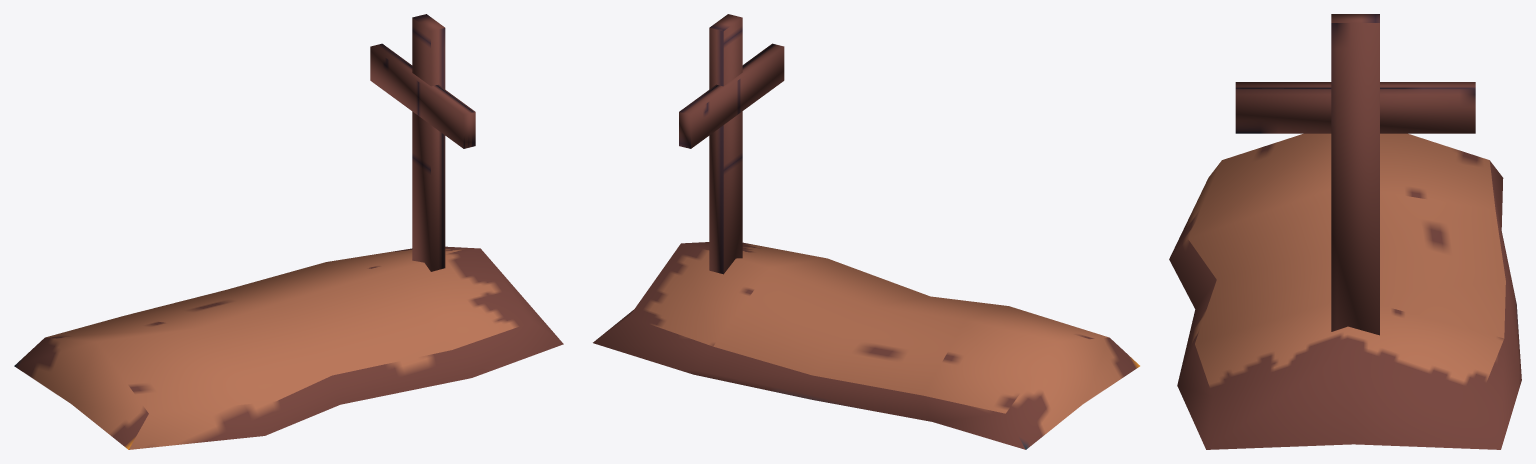
The model's file is Tumulo.fbx.
3 renders of one model, left to right at view 1: azimuth 30°, elevation 25°; view 2: azimuth 150°, elevation 25°; view 3: azimuth 270°, elevation 25°, orthographic. The views are drawn at different scales.
Parts seen in each view (by area): view 1: TerraTumulo; view 2: TerraTumulo; view 3: TerraTumulo.
Boxes of the visible parts, x1=… form: TerraTumulo: x1=14, y1=14, x2=563, y2=449; TerraTumulo: x1=593, y1=14, x2=1139, y2=449; TerraTumulo: x1=1169, y1=14, x2=1521, y2=449.
Bounding box in the file's own units: 274 × 150 × 182.
